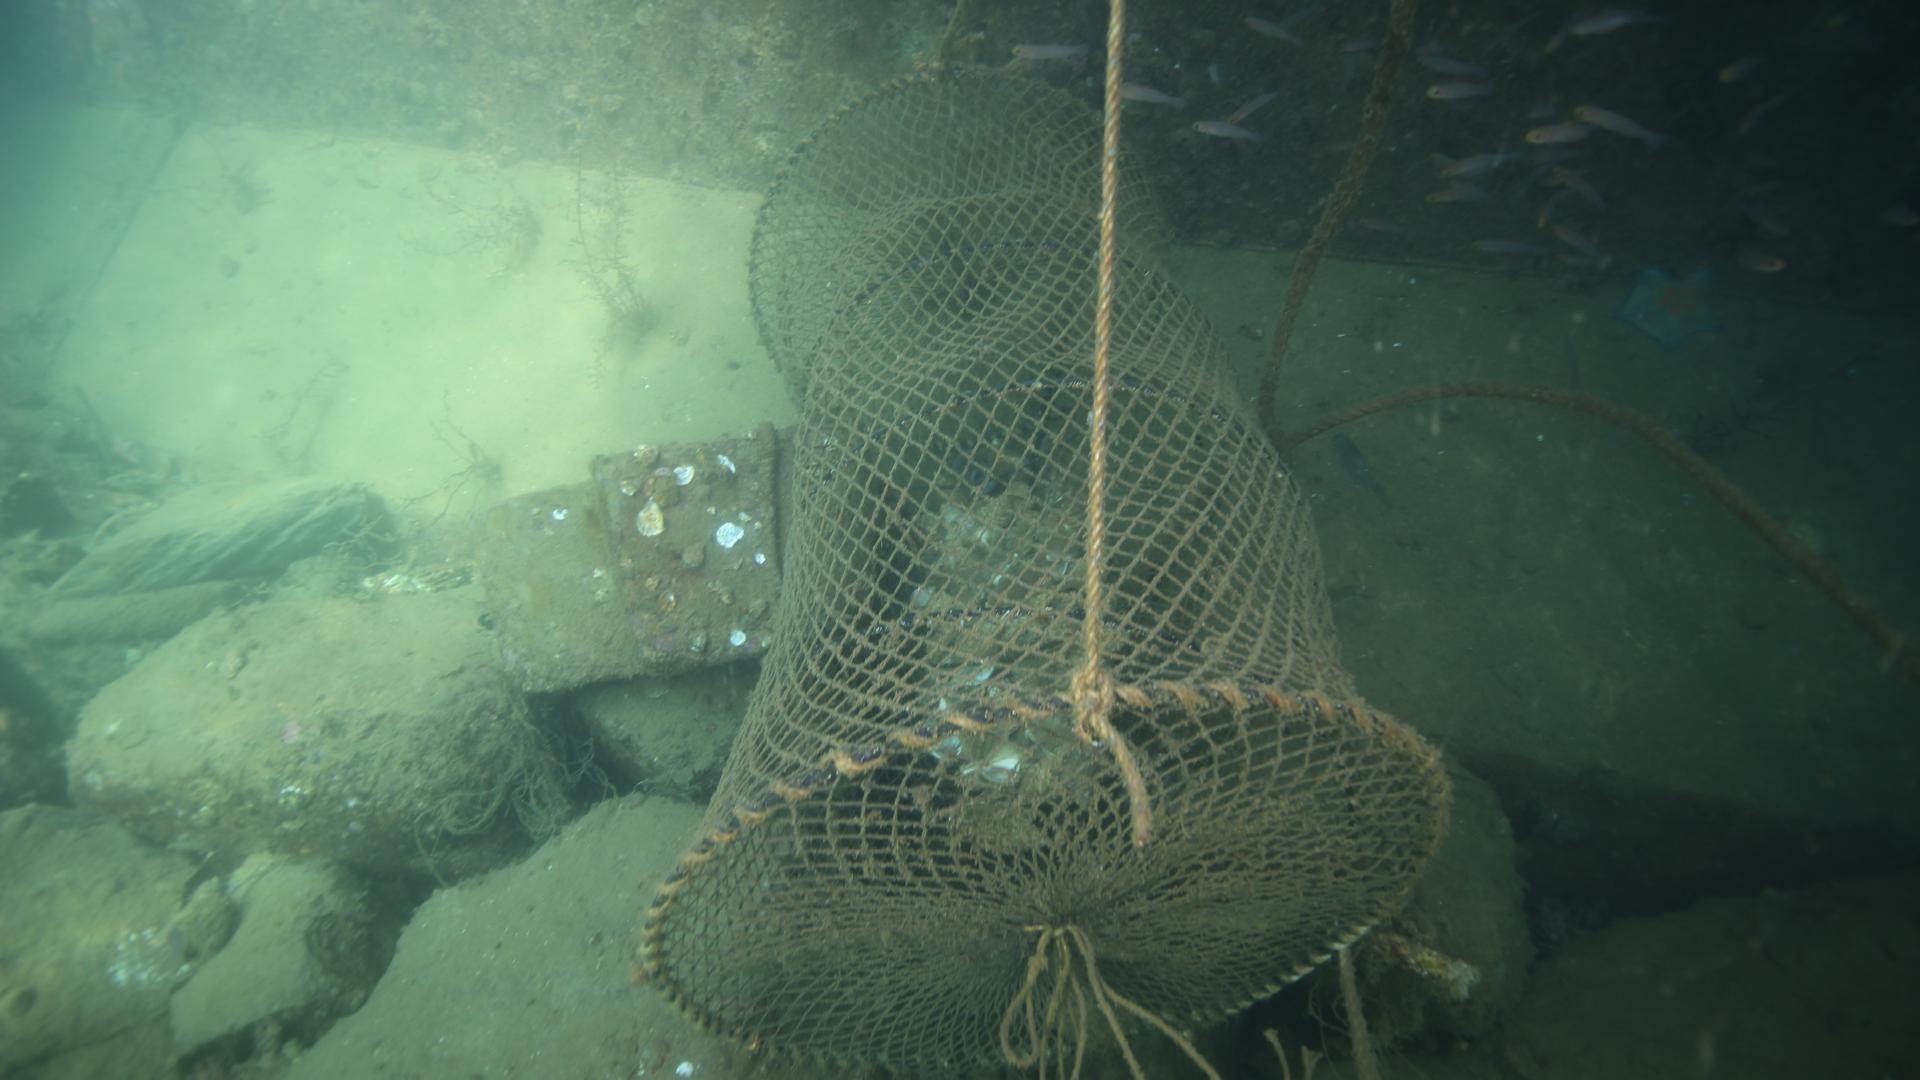bundle of ropes: (1068, 0, 1151, 845)
rope: (1278, 371, 1920, 669), (1251, 0, 1424, 433)
spring fish trap: (636, 62, 1456, 1073)
